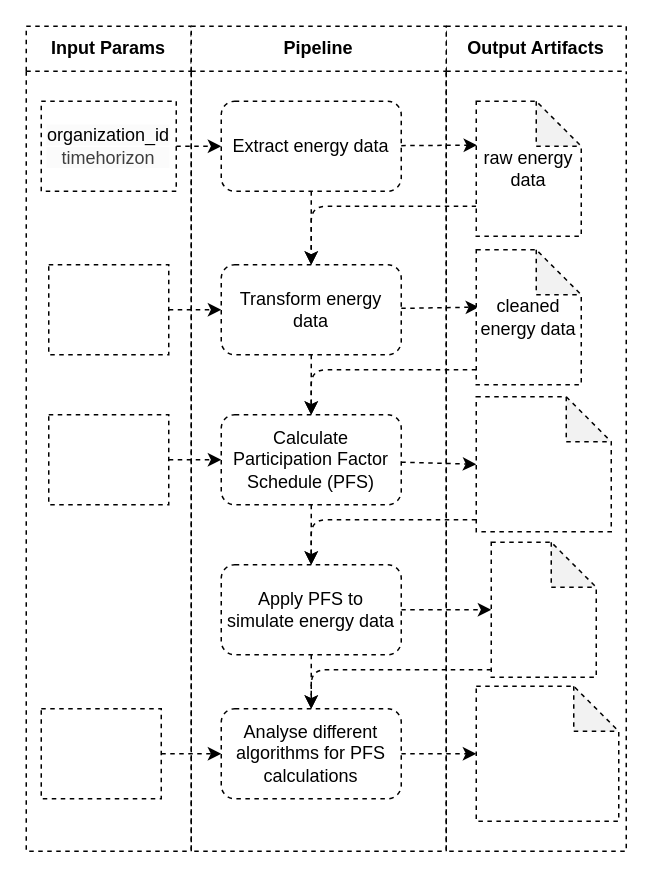
This 653x878 diagram has some shape labels left out. The centre of each missing label's shape, as x and y in pixels:
"Evaluation Criterea" goes at [100,753].
"HTML Dashboard(s) of Evaluations and Comparisons" goes at [547,753].
"Optimization Algorithm" goes at [108,459].
"optimized energy data" goes at [543,609].
"params for data cleaning" goes at [108,309].
"participation factor schedule optimizied for XY" goes at [543,463].
